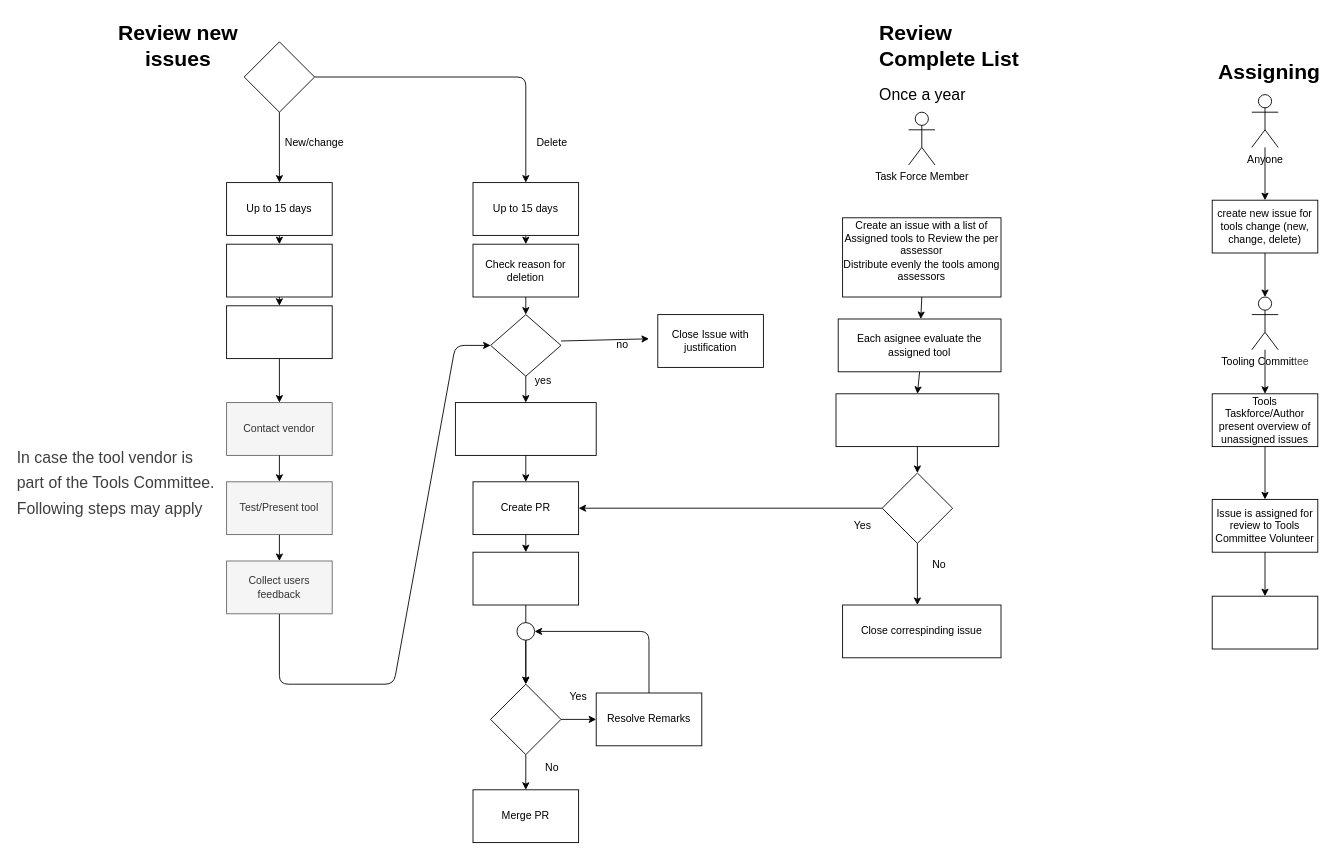
The diagram is 1335 pixels wide and 858 high, and some of its shapes have lost their labels. The box of each missing label's shape, as (x1, y1, x2, y2) in pixels:
Changes?: (881, 472, 953, 543)
Check Tools information: (226, 243, 332, 297)
Delete entry from available.tools.yaml: (455, 402, 596, 455)
Evaluation Criteria: Tool maintenance status License update Vendor status: (835, 393, 999, 447)
Fill up new entry in available.tools.yaml: (226, 305, 332, 359)
In case of no volunteer Taskforce takes over the review: (1211, 595, 1318, 649)
in up to 15 days: (472, 551, 579, 605)
Open Remarks ?: (490, 683, 561, 755)
Valid ?: (490, 314, 561, 376)
